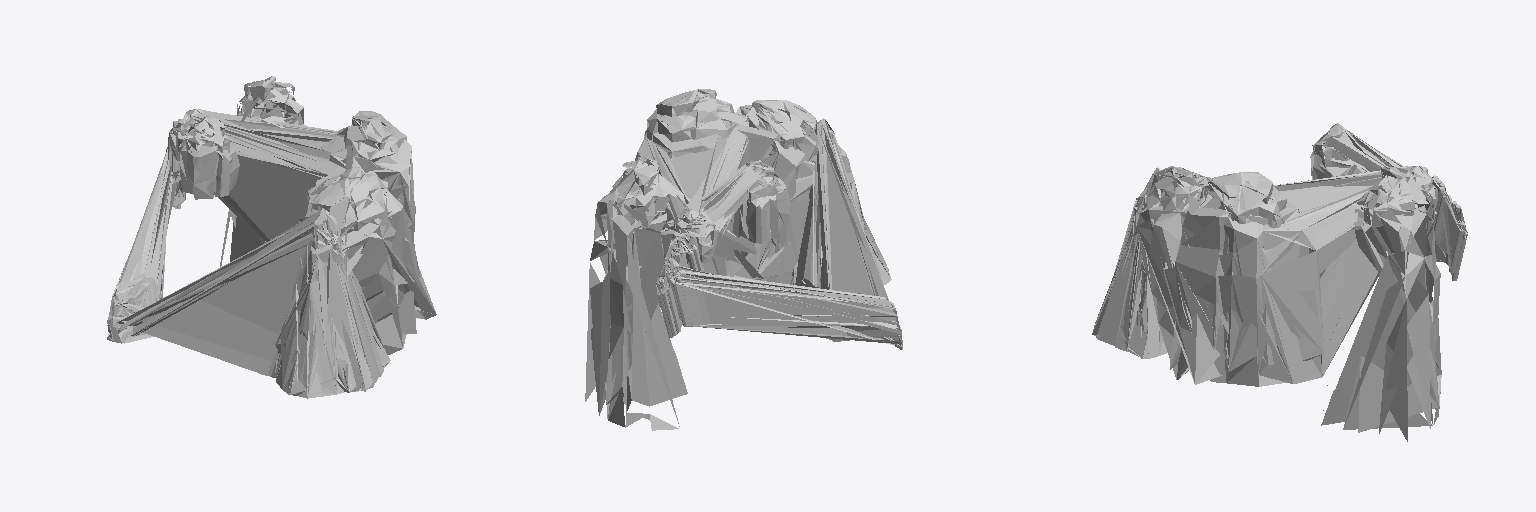
Rendered from cellQuarry_NorthernTrail_Proxy-sharedassets3.assets-609.obj.
3 views of the same model, side by side, from view 1: azimuth 30°, elevation 25°; view 2: azimuth 150°, elevation 25°; view 3: azimuth 270°, elevation 25° (orthographic).
Parts seen in each view (by area): view 1: cellQuarry_NorthernTrail_Proxy_1, cellQuarry_NorthernTrail_Proxy_0, cellQuarry_NorthernTrail_Proxy_2, cellQuarry_NorthernTrail_Proxy_3; view 2: cellQuarry_NorthernTrail_Proxy_3, cellQuarry_NorthernTrail_Proxy_1, cellQuarry_NorthernTrail_Proxy_0, cellQuarry_NorthernTrail_Proxy_2; view 3: cellQuarry_NorthernTrail_Proxy_1, cellQuarry_NorthernTrail_Proxy_3, cellQuarry_NorthernTrail_Proxy_0, cellQuarry_NorthernTrail_Proxy_2.
Part boxes in pixels (x1,y1,x2,y2): cellQuarry_NorthernTrail_Proxy_1: (107, 109, 436, 398); cellQuarry_NorthernTrail_Proxy_0: (108, 109, 431, 395); cellQuarry_NorthernTrail_Proxy_2: (108, 120, 390, 398); cellQuarry_NorthernTrail_Proxy_3: (107, 76, 435, 394); cellQuarry_NorthernTrail_Proxy_3: (585, 89, 902, 430); cellQuarry_NorthernTrail_Proxy_1: (639, 89, 902, 349); cellQuarry_NorthernTrail_Proxy_0: (635, 90, 901, 349); cellQuarry_NorthernTrail_Proxy_2: (657, 119, 902, 346); cellQuarry_NorthernTrail_Proxy_1: (1092, 124, 1467, 386); cellQuarry_NorthernTrail_Proxy_3: (1093, 123, 1467, 441); cellQuarry_NorthernTrail_Proxy_0: (1094, 166, 1465, 385); cellQuarry_NorthernTrail_Proxy_2: (1094, 171, 1467, 358).
Bounding box in the file's own units: 129 × 113 × 149.